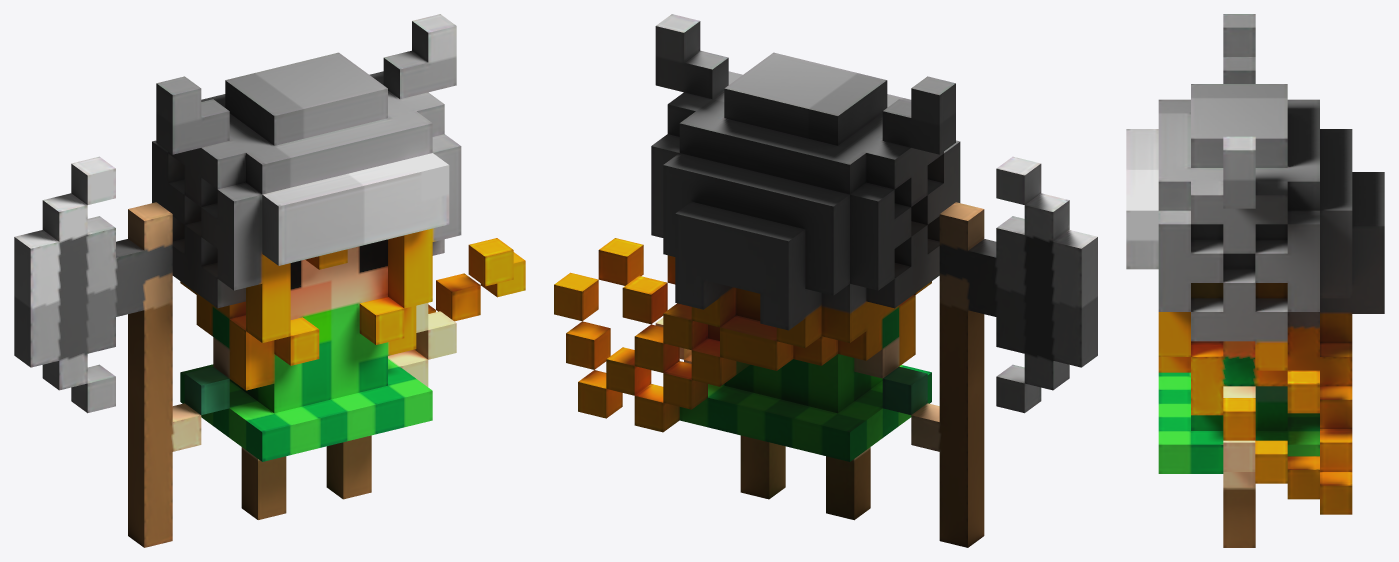
The model's file is model1-baked.glb.
The picture shows the model from 3 angles, left to right: view 1: azimuth 30°, elevation 25°; view 2: azimuth 150°, elevation 25°; view 3: azimuth 270°, elevation 25°; orthographic projection.
Parts seen in each view (by area): view 1: model1; view 2: model1; view 3: model1.
Boxes of the visible parts, bbox=[...] form: model1: bbox=[14, 14, 525, 547]; model1: bbox=[554, 14, 1097, 547]; model1: bbox=[1126, 14, 1384, 547].
Size of what is drawn, in the model's own units: 1.8 by 1.5 by 0.8.
Materials: 1 (1 with a texture image).
